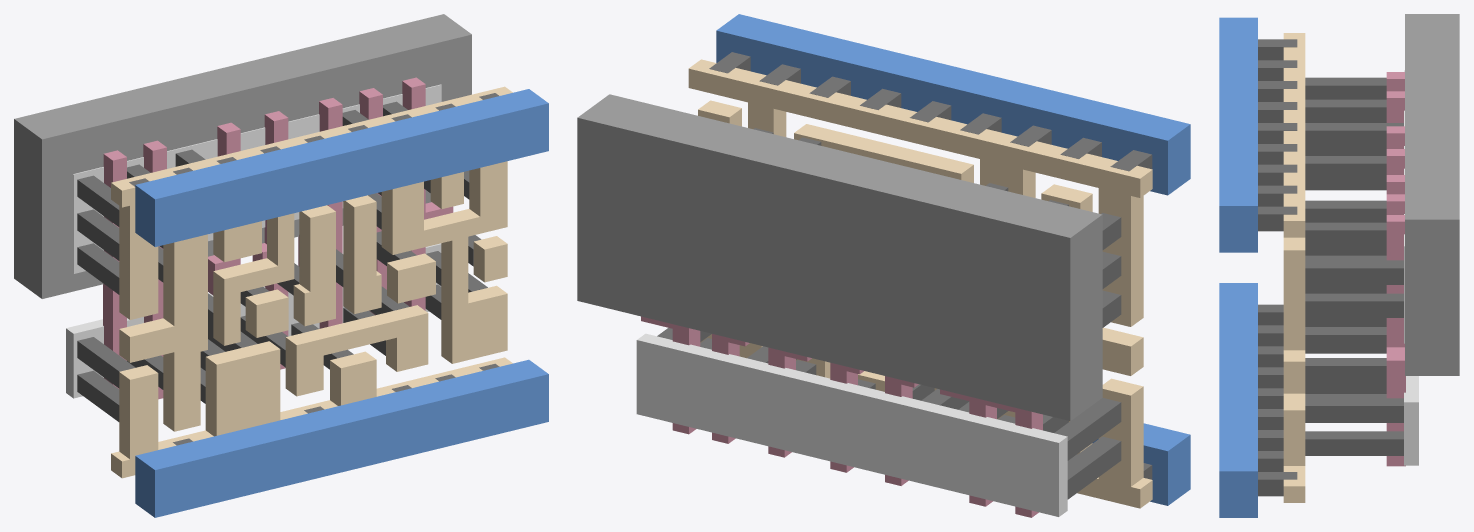
File: sky130_fd_sc_hd__o311a_2.gds.gltf
3 views of the same model, side by side, from view 1: azimuth 30°, elevation 25°; view 2: azimuth 150°, elevation 25°; view 3: azimuth 270°, elevation 25° (orthographic). The views are drawn at different scales.
Parts seen in each view (by area): view 1: sky130_fd_sc_hd__o311a_2_li1, sky130_fd_sc_hd__o311a_2_met1, sky130_fd_sc_hd__o311a_2_nwell, sky130_fd_sc_hd__o311a_2_licon, sky130_fd_sc_hd__o311a_2_poly, sky130_fd_sc_hd__o311a_2_diff, sky130_fd_sc_hd__o311a_2_mcon; view 2: sky130_fd_sc_hd__o311a_2_nwell, sky130_fd_sc_hd__o311a_2_diff, sky130_fd_sc_hd__o311a_2_li1, sky130_fd_sc_hd__o311a_2_met1, sky130_fd_sc_hd__o311a_2_licon, sky130_fd_sc_hd__o311a_2_mcon, sky130_fd_sc_hd__o311a_2_poly; view 3: sky130_fd_sc_hd__o311a_2_licon, sky130_fd_sc_hd__o311a_2_nwell, sky130_fd_sc_hd__o311a_2_met1, sky130_fd_sc_hd__o311a_2_mcon, sky130_fd_sc_hd__o311a_2_li1, sky130_fd_sc_hd__o311a_2_poly, sky130_fd_sc_hd__o311a_2_diff.
Boxes of the visible parts, x1,y1,x2,y2 form: sky130_fd_sc_hd__o311a_2_li1: [111, 86, 512, 478]; sky130_fd_sc_hd__o311a_2_met1: [135, 89, 548, 517]; sky130_fd_sc_hd__o311a_2_nwell: [14, 14, 471, 298]; sky130_fd_sc_hd__o311a_2_licon: [77, 101, 487, 421]; sky130_fd_sc_hd__o311a_2_poly: [103, 77, 453, 399]; sky130_fd_sc_hd__o311a_2_diff: [66, 84, 441, 398]; sky130_fd_sc_hd__o311a_2_mcon: [129, 93, 499, 445]; sky130_fd_sc_hd__o311a_2_nwell: [577, 94, 1102, 420]; sky130_fd_sc_hd__o311a_2_diff: [636, 333, 1067, 516]; sky130_fd_sc_hd__o311a_2_li1: [688, 59, 1152, 508]; sky130_fd_sc_hd__o311a_2_met1: [716, 14, 1190, 505]; sky130_fd_sc_hd__o311a_2_licon: [657, 128, 1121, 499]; sky130_fd_sc_hd__o311a_2_mcon: [709, 52, 1152, 479]; sky130_fd_sc_hd__o311a_2_poly: [641, 316, 1042, 517]; sky130_fd_sc_hd__o311a_2_licon: [1305, 77, 1403, 455]; sky130_fd_sc_hd__o311a_2_nwell: [1405, 14, 1459, 375]; sky130_fd_sc_hd__o311a_2_met1: [1219, 17, 1257, 517]; sky130_fd_sc_hd__o311a_2_mcon: [1258, 39, 1297, 496]; sky130_fd_sc_hd__o311a_2_li1: [1283, 33, 1305, 502]; sky130_fd_sc_hd__o311a_2_poly: [1386, 72, 1405, 466]; sky130_fd_sc_hd__o311a_2_diff: [1404, 70, 1418, 465].
Bounding box in the file's own units: 4.52 × 3.2 × 2.24.
